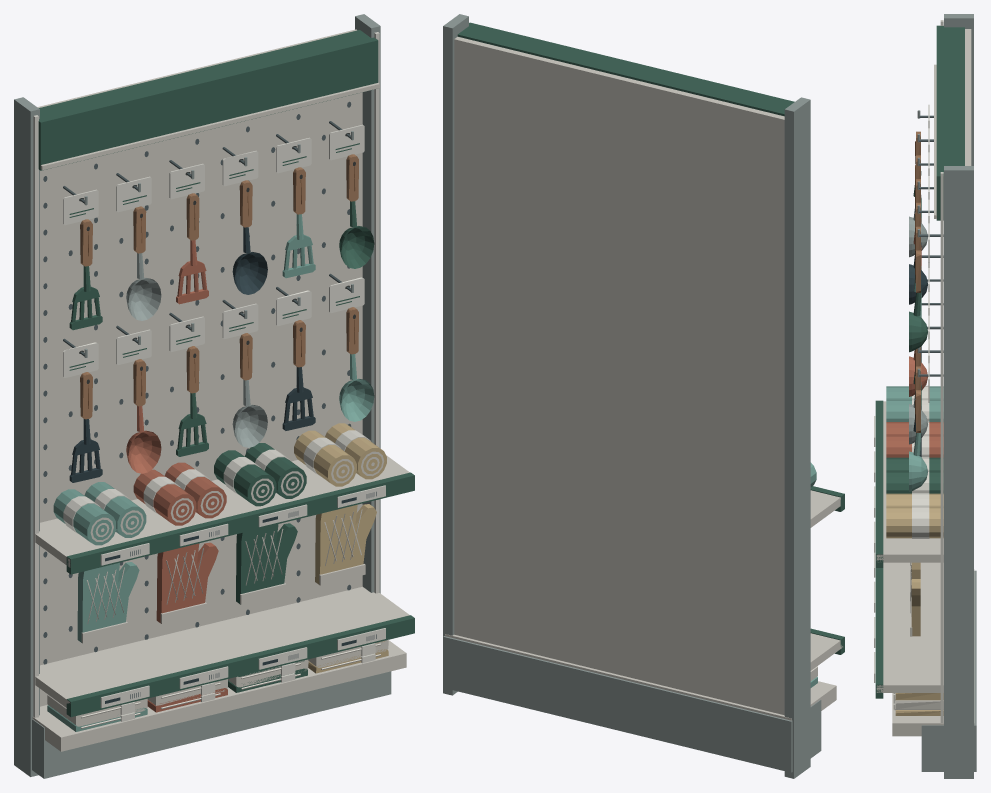
Rendered from kitchen.glb.
3 renders of one model, left to right at view 1: azimuth 30°, elevation 25°; view 2: azimuth 150°, elevation 25°; view 3: azimuth 270°, elevation 25°, orthographic. The views are drawn at different scales.
Visible parts, largest first — view 1: DaisoKitchenEndcap; view 2: DaisoKitchenEndcap; view 3: DaisoKitchenEndcap.
Boxes of the visible parts, bbox=[...] form: DaisoKitchenEndcap: bbox=[14, 14, 414, 778]; DaisoKitchenEndcap: bbox=[443, 14, 844, 778]; DaisoKitchenEndcap: bbox=[874, 14, 976, 778].
Size of the model in its own units: 1.08 by 1.96 by 0.3008.
